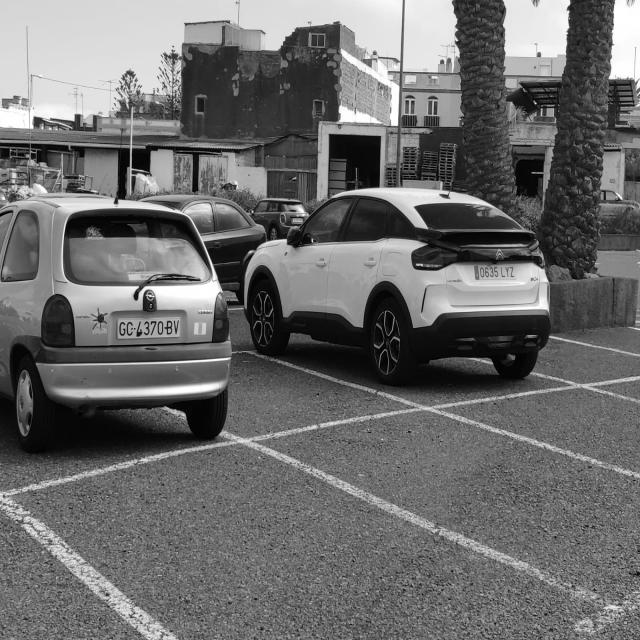License-Plate: (118, 316, 180, 338), (474, 264, 516, 280)
